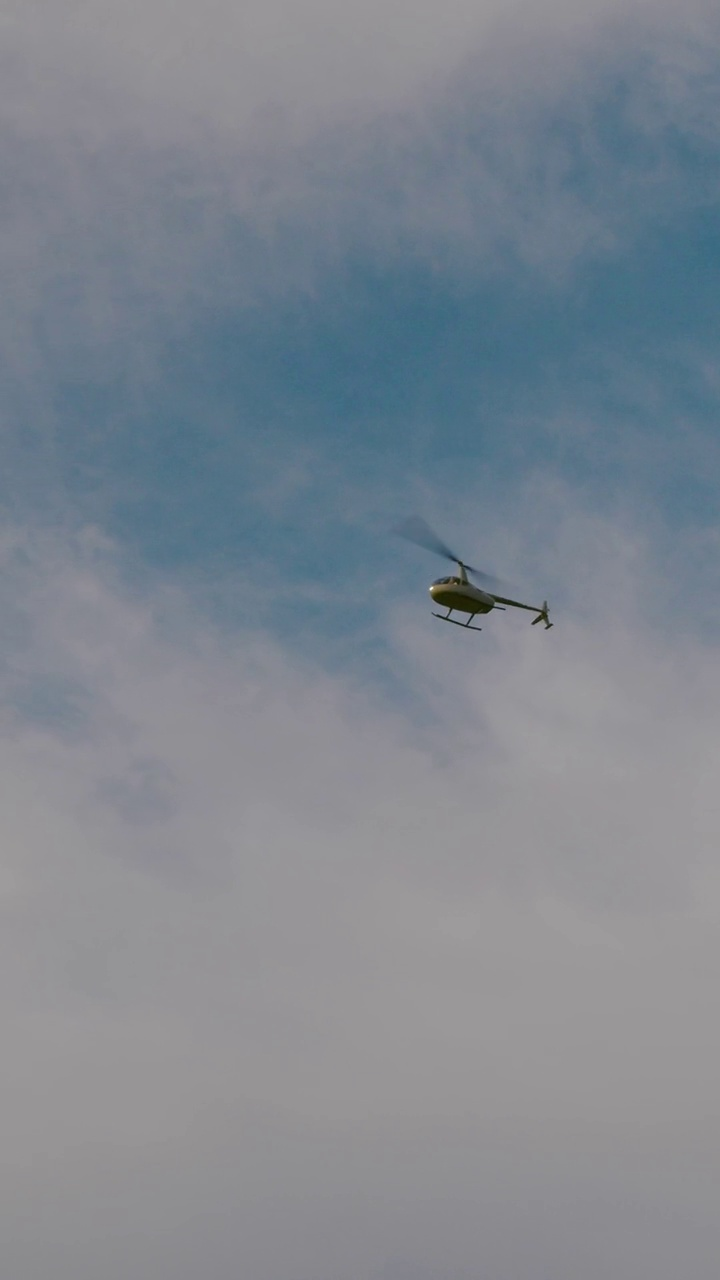heli: (405, 520, 557, 635)
